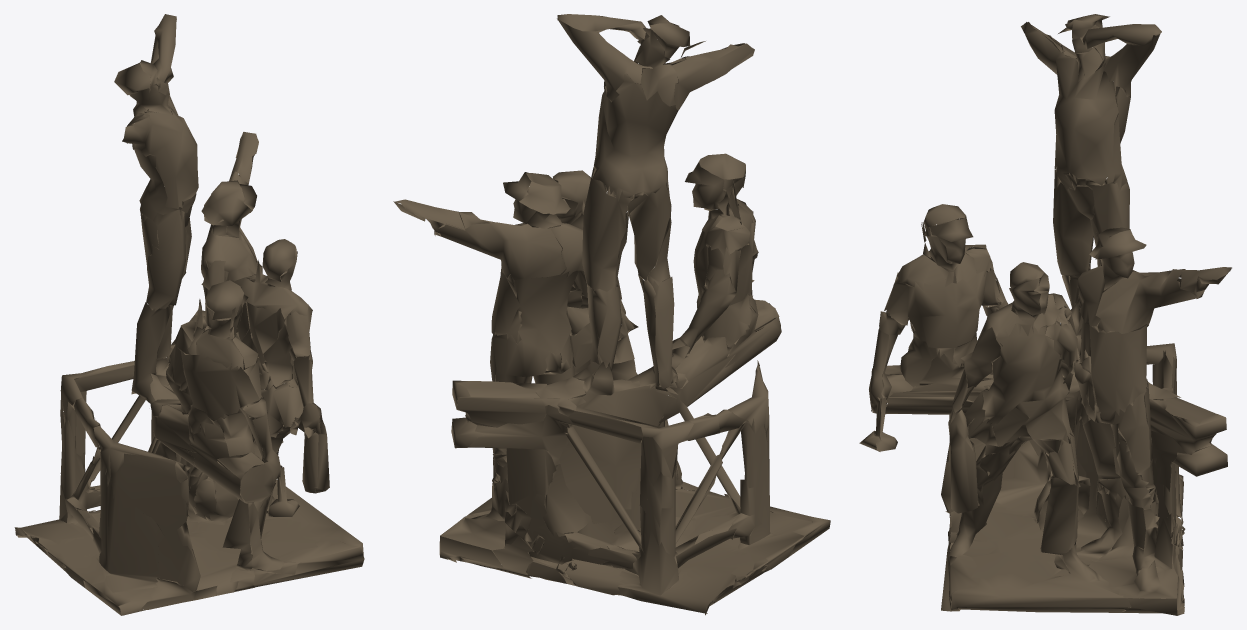
Rendered from pioneers-h31-far.glb.
3 renders of one model, left to right at view 1: azimuth 30°, elevation 25°; view 2: azimuth 150°, elevation 25°; view 3: azimuth 270°, elevation 25°, orthographic. The views are drawn at different scales.
Visible parts, largest first — view 1: tripo_node_9dd9a70f-2214-416a-a0e0-dad3c1dbc1b2; view 2: tripo_node_9dd9a70f-2214-416a-a0e0-dad3c1dbc1b2; view 3: tripo_node_9dd9a70f-2214-416a-a0e0-dad3c1dbc1b2.
Boxes of the visible parts, x1,y1,x2,y2 form: tripo_node_9dd9a70f-2214-416a-a0e0-dad3c1dbc1b2: (14,14,364,615); tripo_node_9dd9a70f-2214-416a-a0e0-dad3c1dbc1b2: (393,14,830,615); tripo_node_9dd9a70f-2214-416a-a0e0-dad3c1dbc1b2: (859,14,1231,615).
Size of the model in its own units: 1.85 by 3.31 by 2.08.
